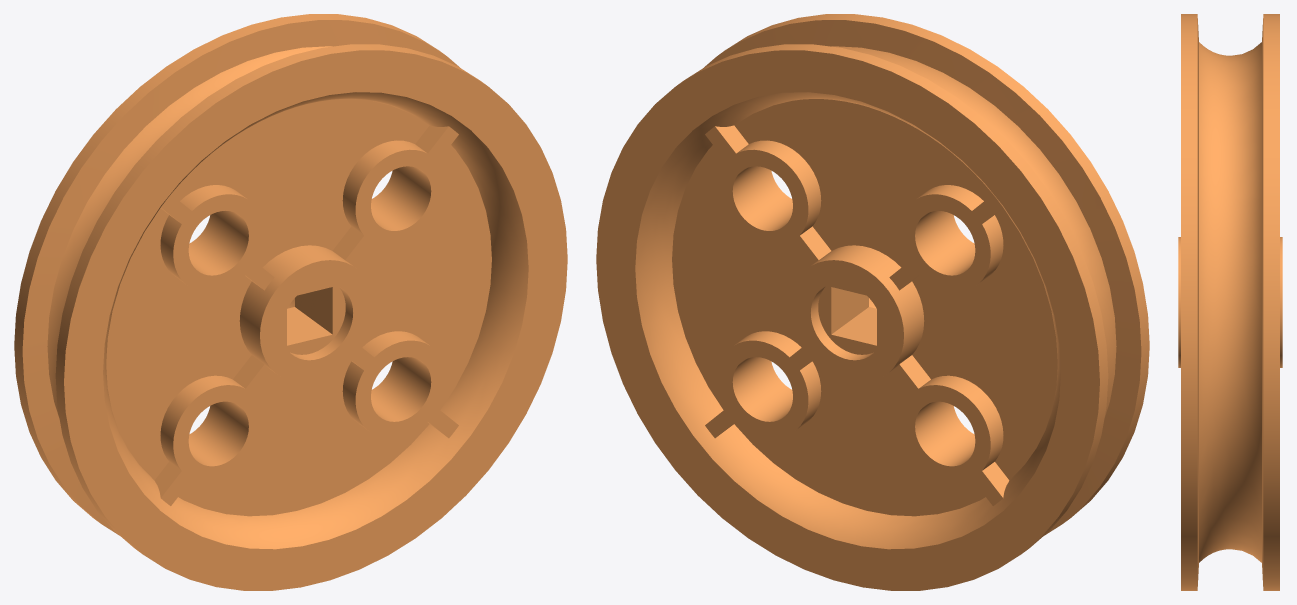
3 views of the same model, side by side, from view 1: azimuth 30°, elevation 25°; view 2: azimuth 150°, elevation 25°; view 3: azimuth 270°, elevation 25° (orthographic).
Visible parts, largest first — view 1: main_ff671f; view 2: main_ff671f; view 3: main_ff671f.
Part boxes in pixels (x1=…): main_ff671f: x1=14, y1=14, x2=567, y2=590; main_ff671f: x1=596, y1=14, x2=1149, y2=590; main_ff671f: x1=1178, y1=14, x2=1282, y2=590.
Bounding box in the file's own units: 35.1 × 35.04 × 6.35.
